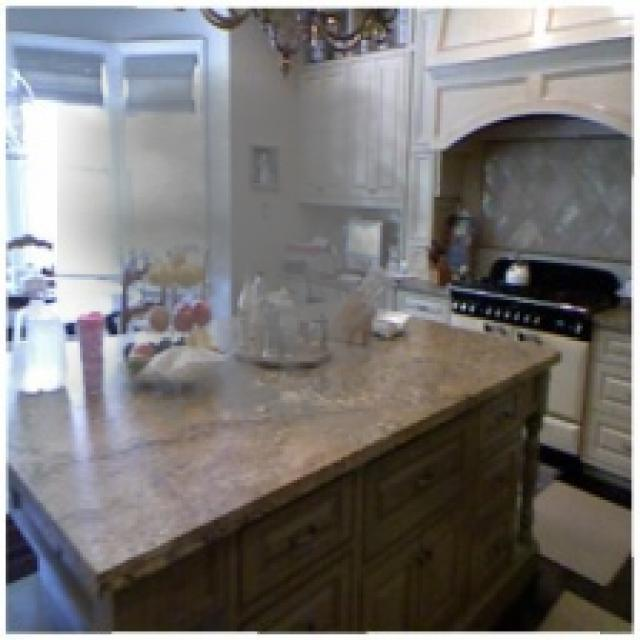Smoke: (57, 60, 452, 446)
